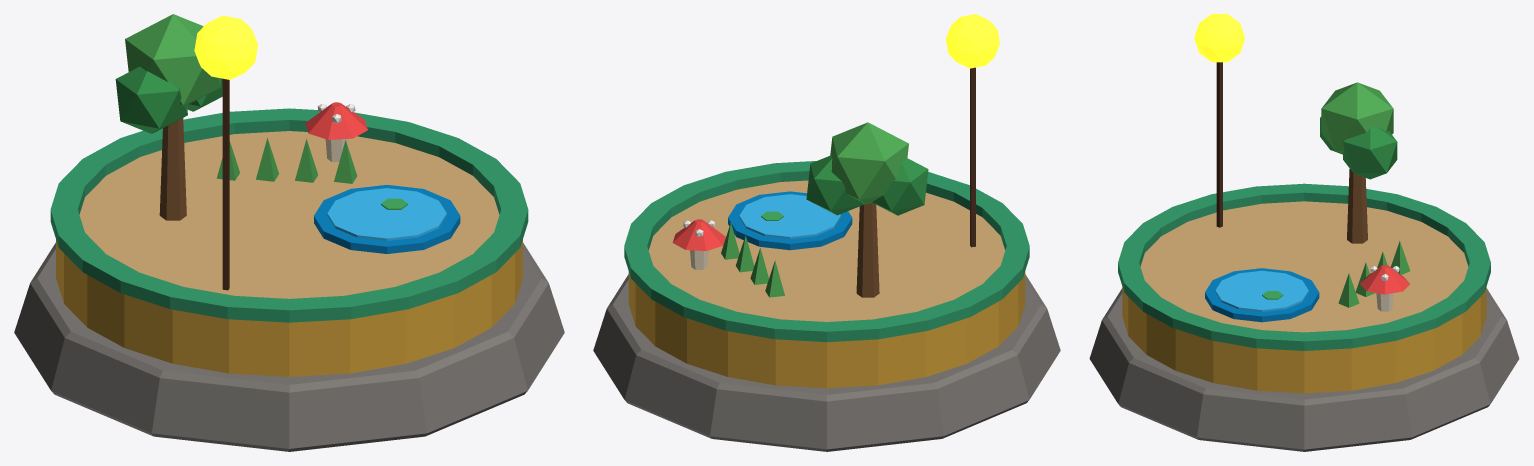
File: stasiun_ekosistem_v001.glb
3 views of the same model, side by side, from view 1: azimuth 30°, elevation 25°; view 2: azimuth 150°, elevation 25°; view 3: azimuth 270°, elevation 25° (orthographic). The views are drawn at different scales.
Visible parts, largest first — view 1: Stasiun_Ekosistem; view 2: Stasiun_Ekosistem; view 3: Stasiun_Ekosistem.
Boxes of the visible parts, x1,y1,x2,y2 form: Stasiun_Ekosistem: [14, 14, 564, 451]; Stasiun_Ekosistem: [593, 14, 1060, 451]; Stasiun_Ekosistem: [1089, 14, 1519, 451].
Size of the model in its own units: 2.03 by 1.58 by 2.03.
